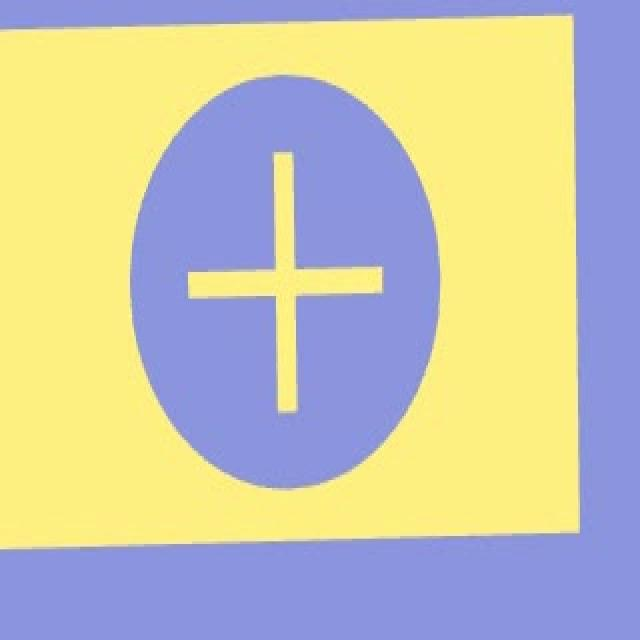Yellow-crosses: (181, 143, 392, 422)
